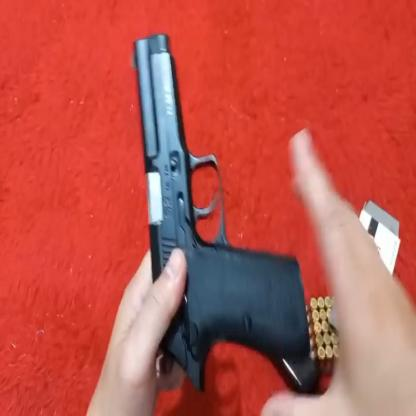handgun: (128, 21, 310, 392)
